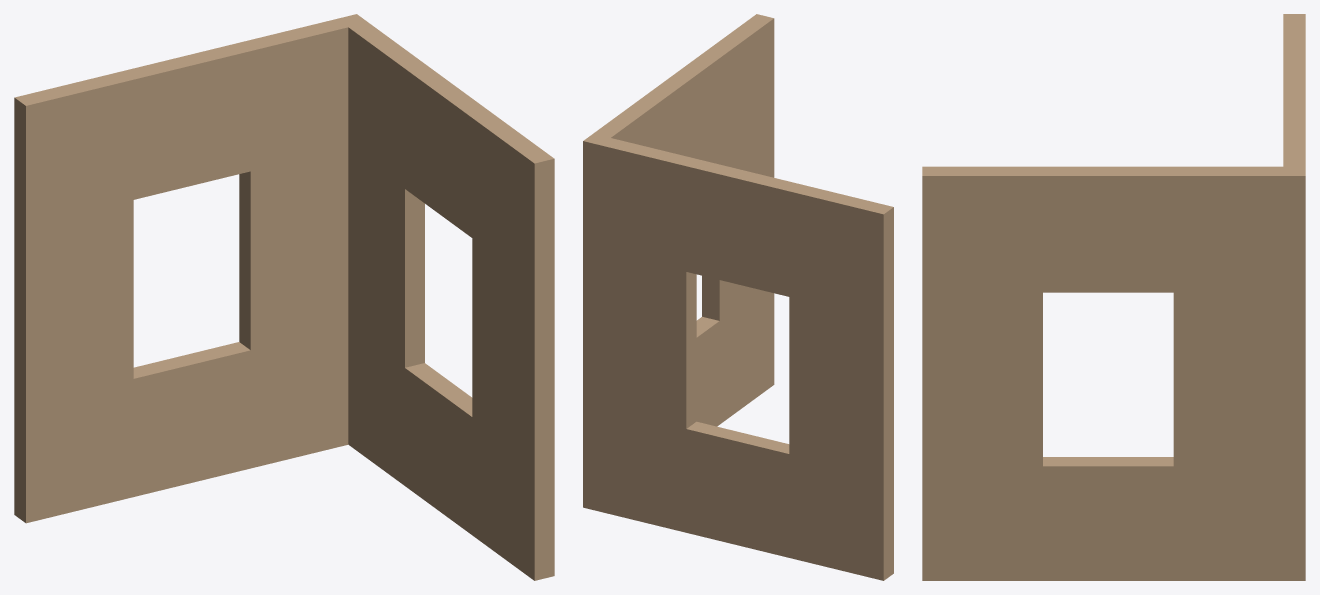
The model's file is Wall2_C1_09.fbx.
3 views of the same model, side by side, from view 1: azimuth 30°, elevation 25°; view 2: azimuth 150°, elevation 25°; view 3: azimuth 270°, elevation 25° (orthographic). The views are drawn at different scales.
Visible parts, largest first — view 1: Wall2_C1_09; view 2: Wall2_C1_09; view 3: Wall2_C1_09.
Part boxes in pixels (<box>): Wall2_C1_09: <box>14,14,554,580</box>; Wall2_C1_09: <box>583,14,893,580</box>; Wall2_C1_09: <box>922,14,1305,580</box>.
Size of the model in its own units: 258 by 300 by 258.
